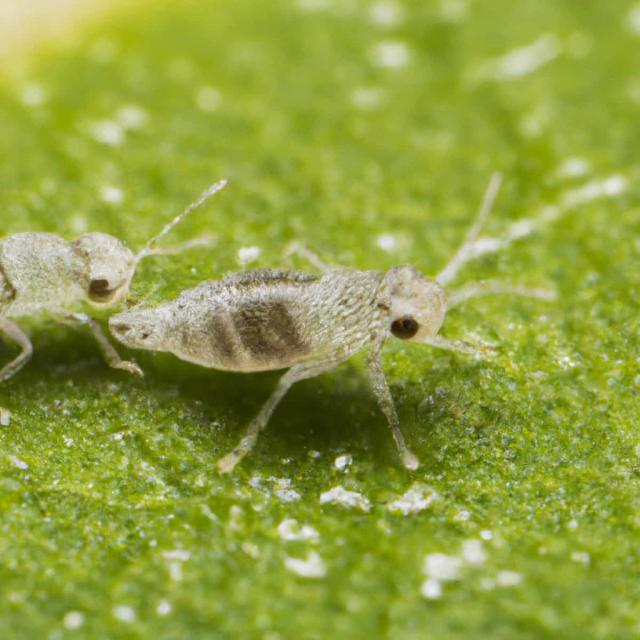Thrips: (101, 176, 553, 489), (1, 155, 191, 366)
